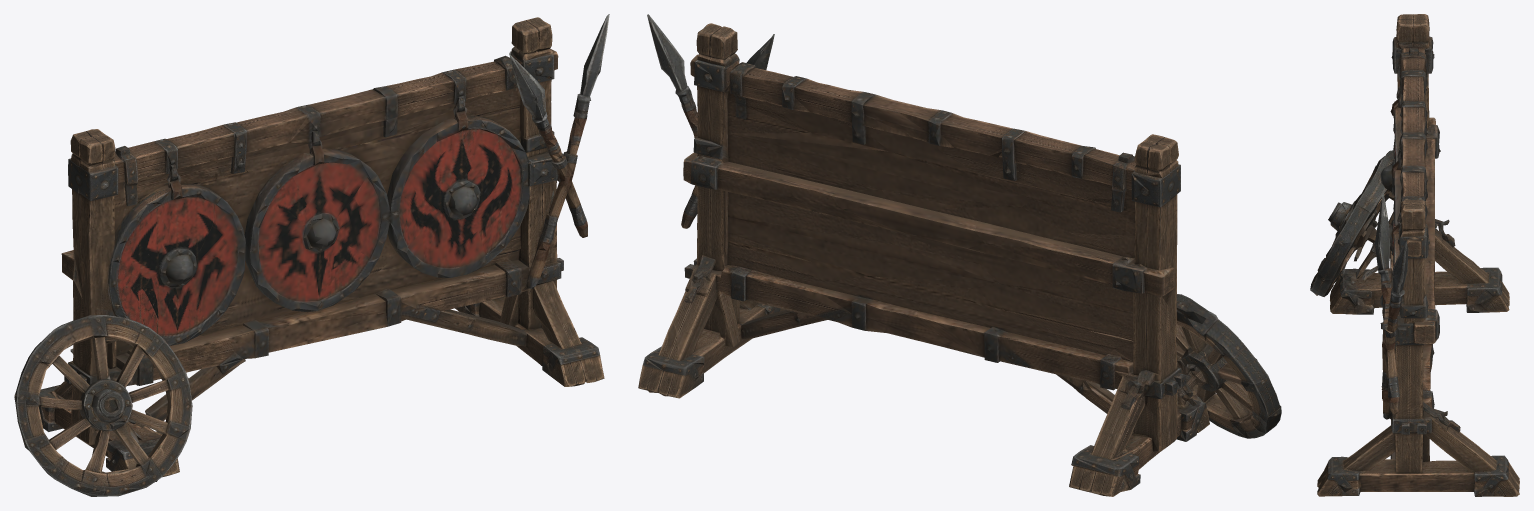
The model's file is shield_stand.glb.
The picture shows the model from 3 angles, left to right: view 1: azimuth 30°, elevation 25°; view 2: azimuth 150°, elevation 25°; view 3: azimuth 270°, elevation 25°; orthographic projection. The views are drawn at different scales.
Visible parts, largest first — view 1: Mesh_0; view 2: Mesh_0; view 3: Mesh_0.
Part boxes in pixels (left/top/right/bottom): Mesh_0: left=14, top=14, right=609, bottom=496; Mesh_0: left=638, top=14, right=1281, bottom=496; Mesh_0: left=1310, top=14, right=1519, bottom=496.
Size of the model in its own units: 2.3 by 1.17 by 0.7732.
1 material, 1 textured.
